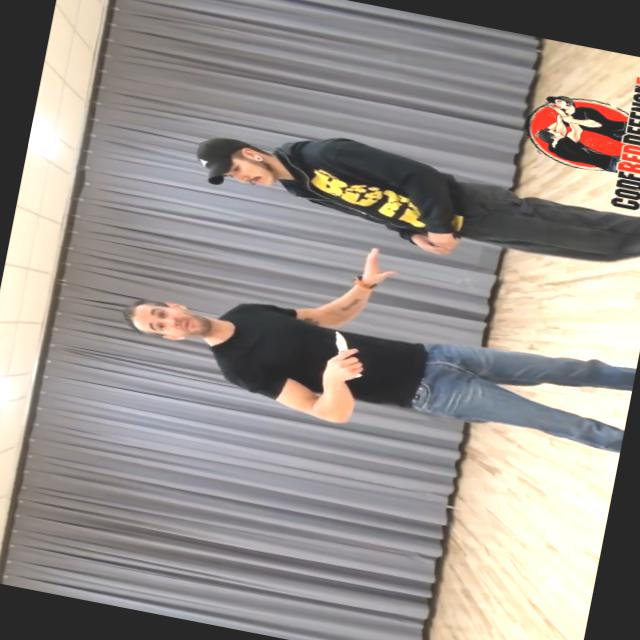knife: (317, 326, 375, 382)
